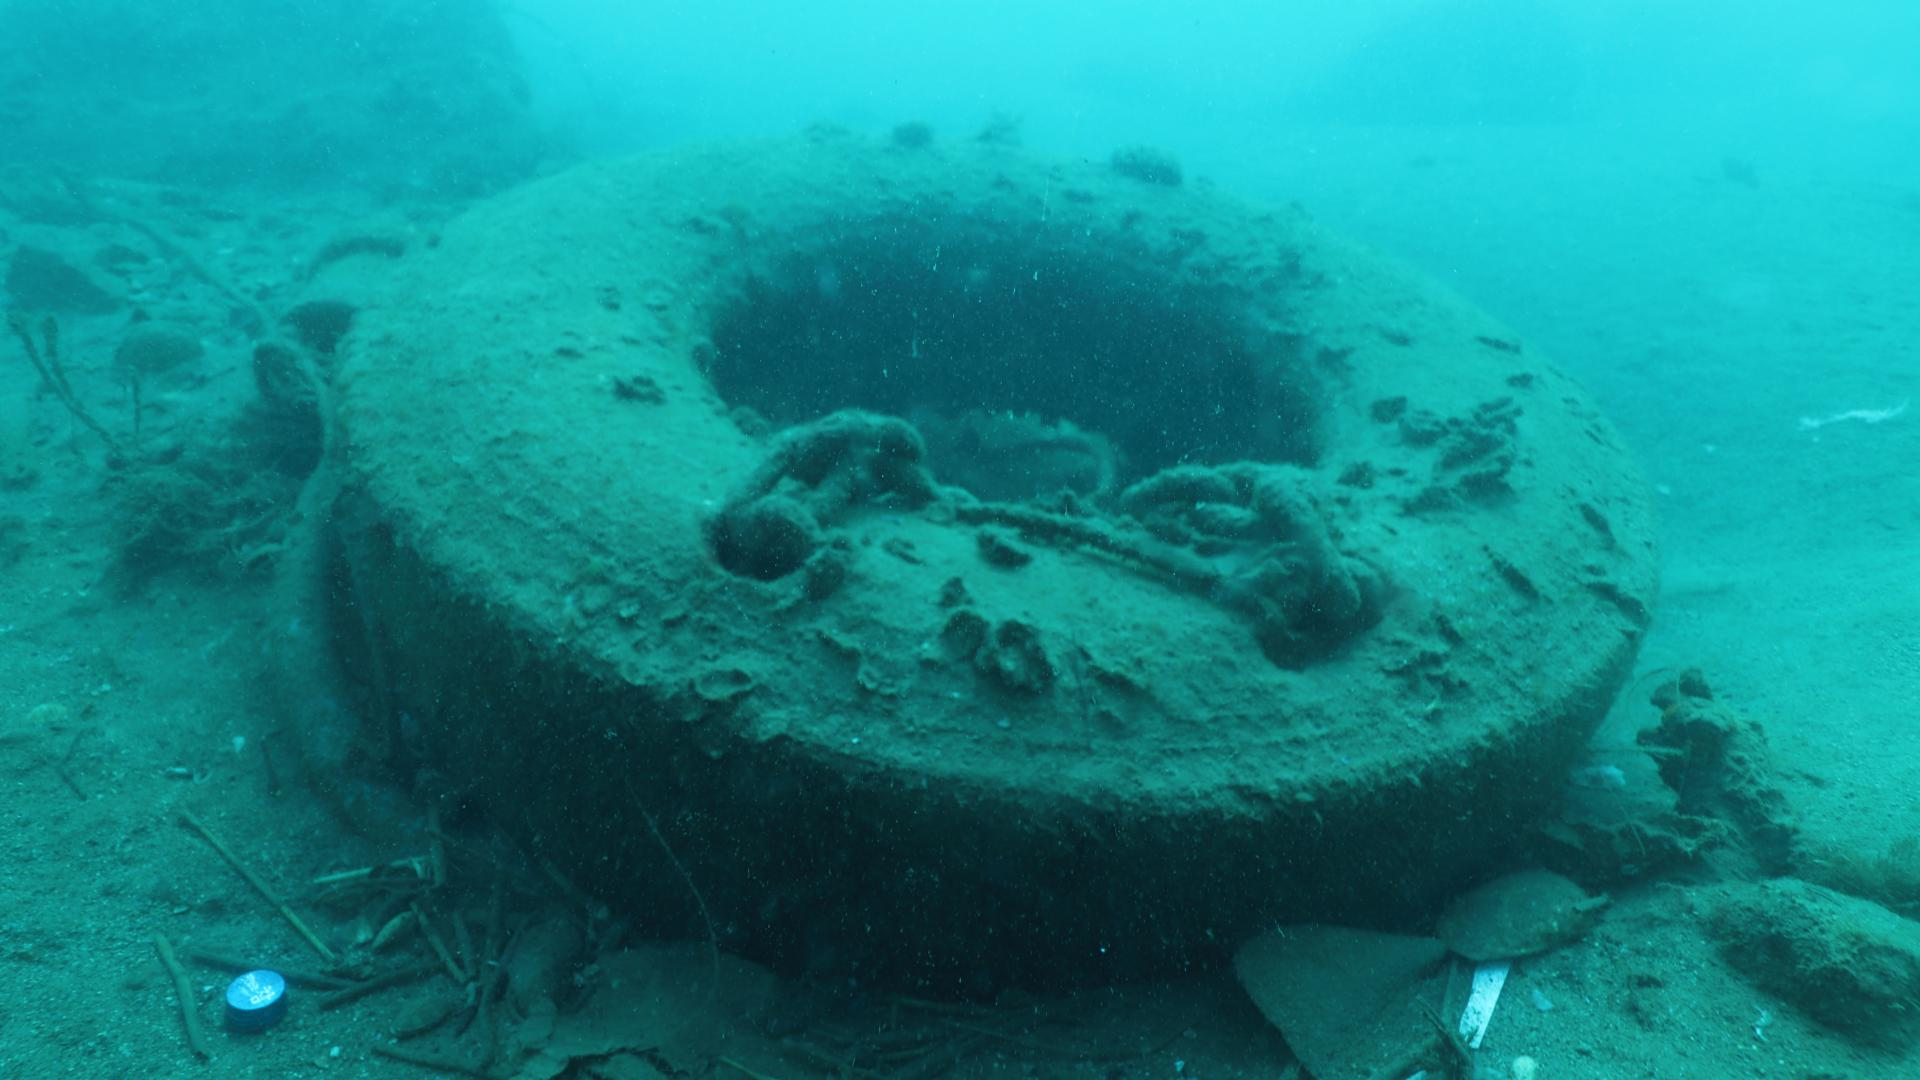tire: (334, 135, 1658, 982)
